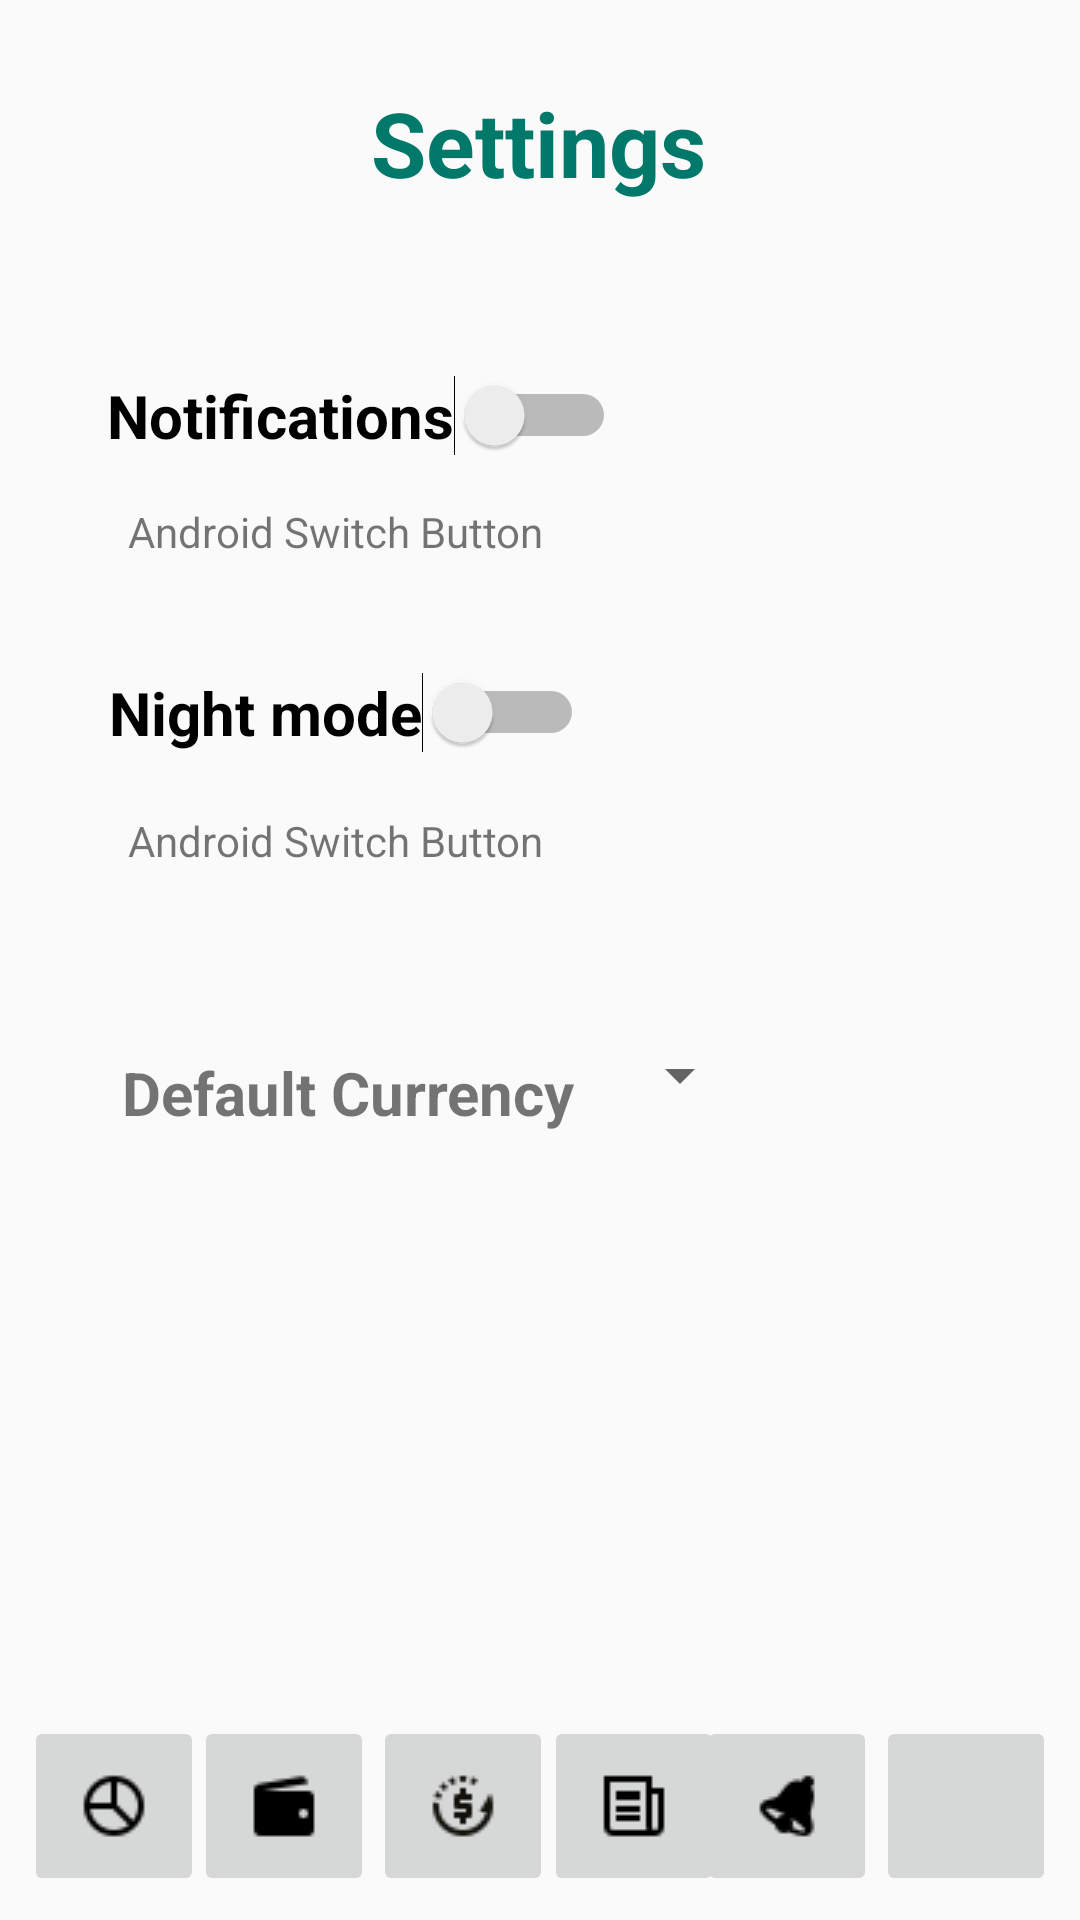

Named icons in this screenshot (1080×1920) and their bounding boxes, (x1, y1, x2, y2):
alerts: (697, 1734, 865, 1878)
news: (556, 1734, 724, 1878)
portfolio: (36, 1734, 192, 1878)
transaction: (385, 1734, 541, 1878)
wallet: (206, 1734, 362, 1878)
